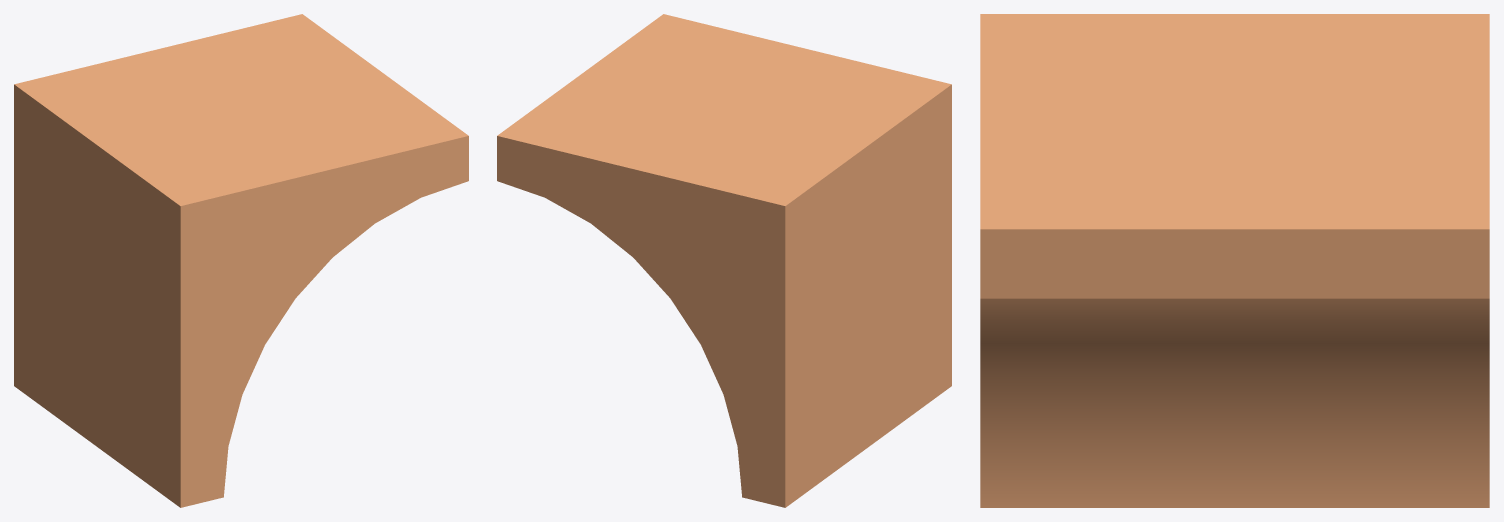
Rendered from Ground_006.fbx.
3 renders of one model, left to right at view 1: azimuth 30°, elevation 25°; view 2: azimuth 150°, elevation 25°; view 3: azimuth 270°, elevation 25°, orthographic. The views are drawn at different scales.
Visible parts, largest first — view 1: Ground.006; view 2: Ground.006; view 3: Ground.006.
Boxes of the visible parts, x1,y1,x2,y2 form: Ground.006: [14, 14, 468, 507]; Ground.006: [497, 14, 951, 507]; Ground.006: [980, 14, 1489, 507].
Size of the model in its own units: 100 by 100 by 100.
